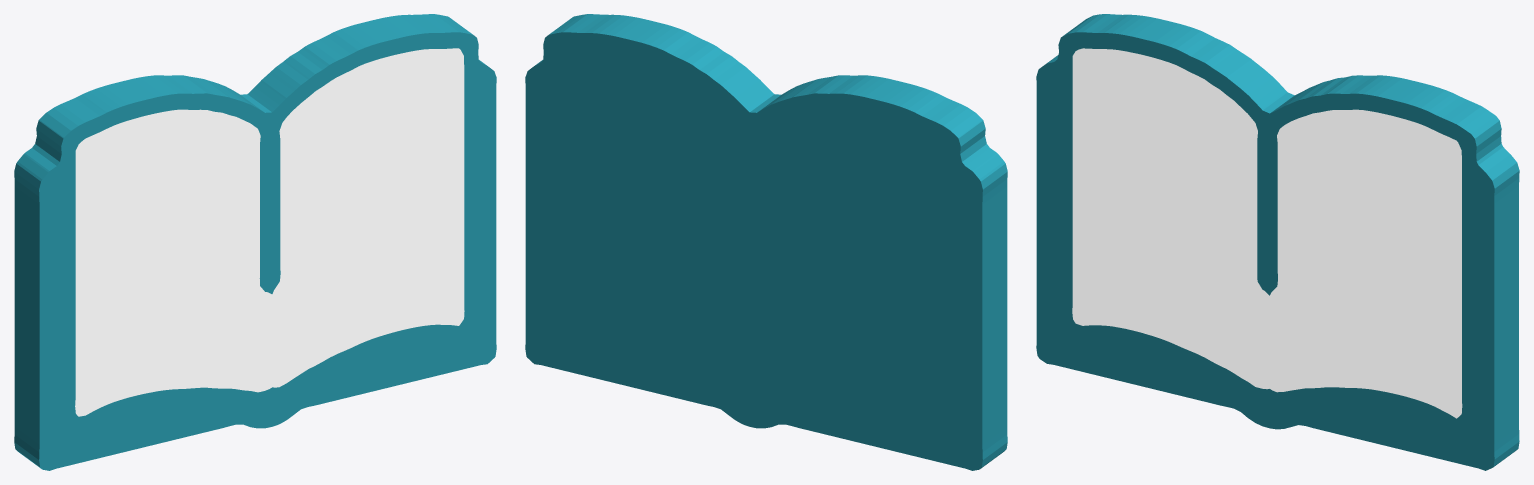
File: enrich.glb
3 views of the same model, side by side, from view 1: azimuth 30°, elevation 25°; view 2: azimuth 150°, elevation 25°; view 3: azimuth 330°, elevation 25° (orthographic).
Visible parts, largest first — view 1: White open page (×2), Solid blue book side (×2); view 2: Solid blue book side (×2); view 3: White open page (×2), Solid blue book side (×2).
Part boxes in pixels (bbox=[...]): White open page (×2): bbox=[75, 48, 464, 416]; Solid blue book side (×2): bbox=[14, 14, 496, 470]; Solid blue book side (×2): bbox=[525, 14, 1007, 470]; White open page (×2): bbox=[1072, 48, 1462, 418]; Solid blue book side (×2): bbox=[1036, 14, 1519, 470].
Bounding box in the file's own units: 3 × 2.24 × 0.283.
